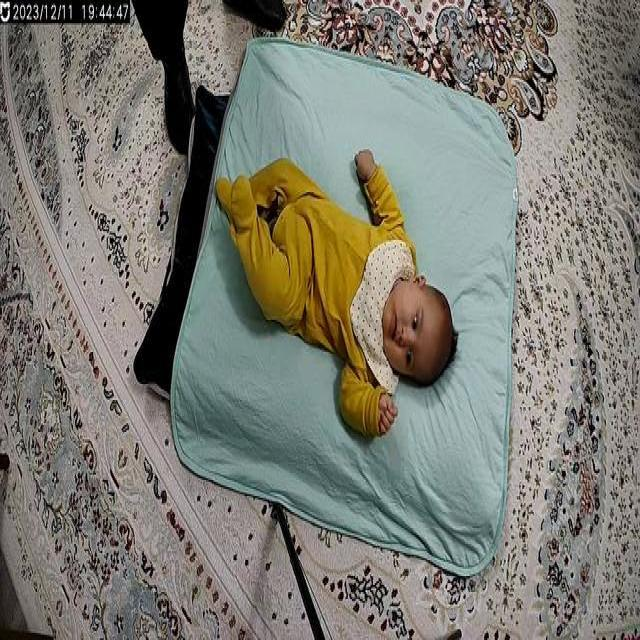baby: (210, 142, 459, 450)
